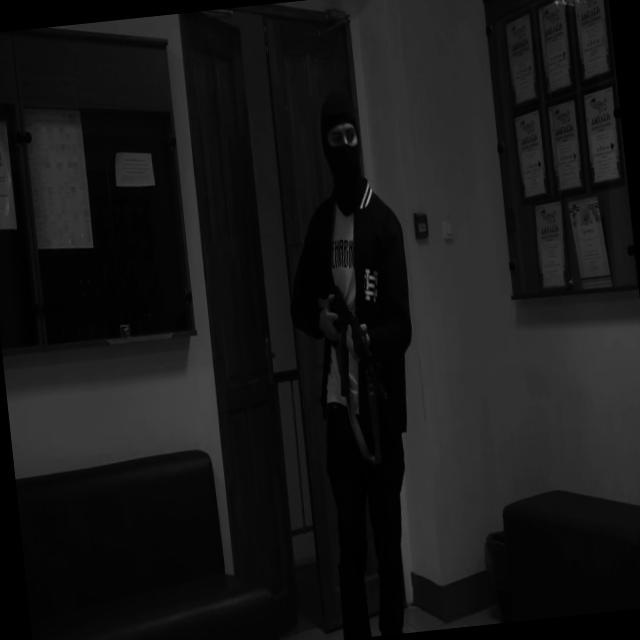gun: (312, 250, 389, 412)
person with a gun: (267, 85, 444, 640)
